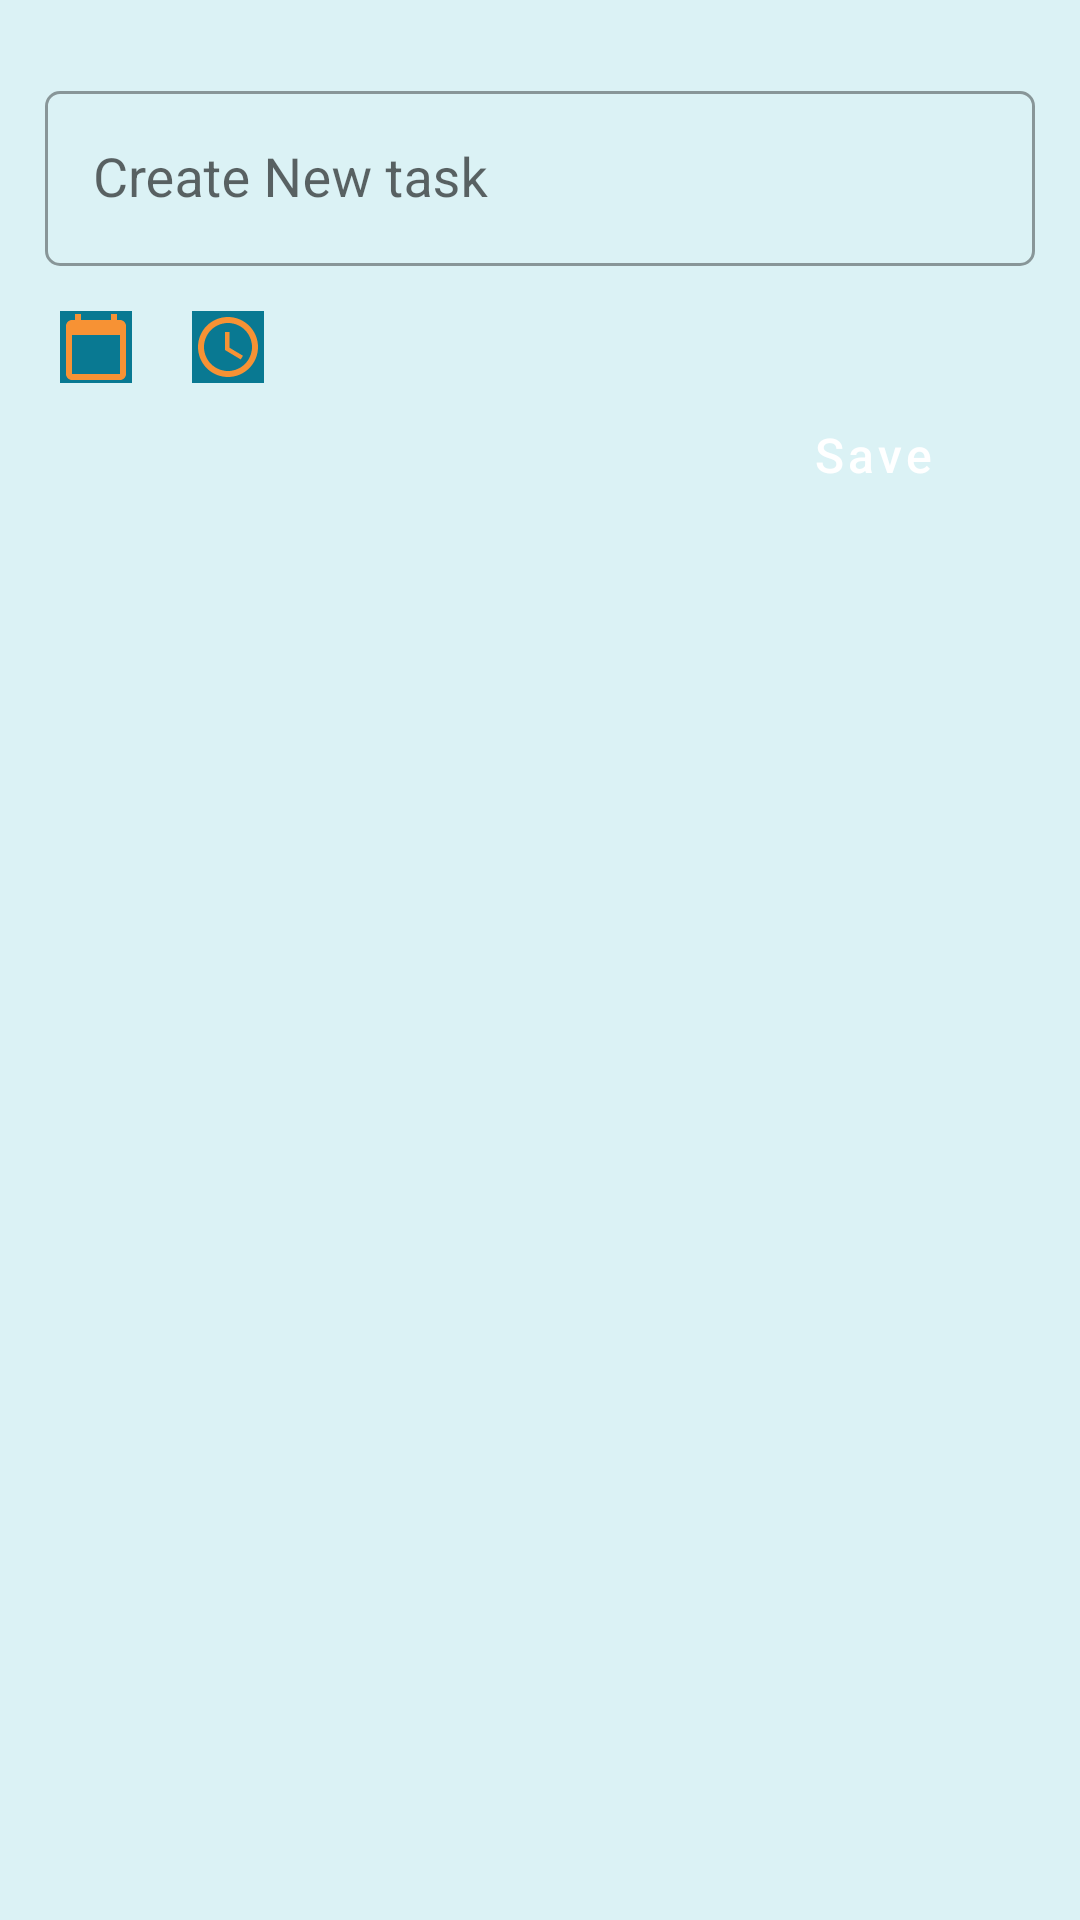

Screen size 1080 x 1920. Icon name, then its box in pixels as (x1, y1, x2, y2):
calendar today: (60, 311, 132, 383)
time: (192, 311, 264, 383)
